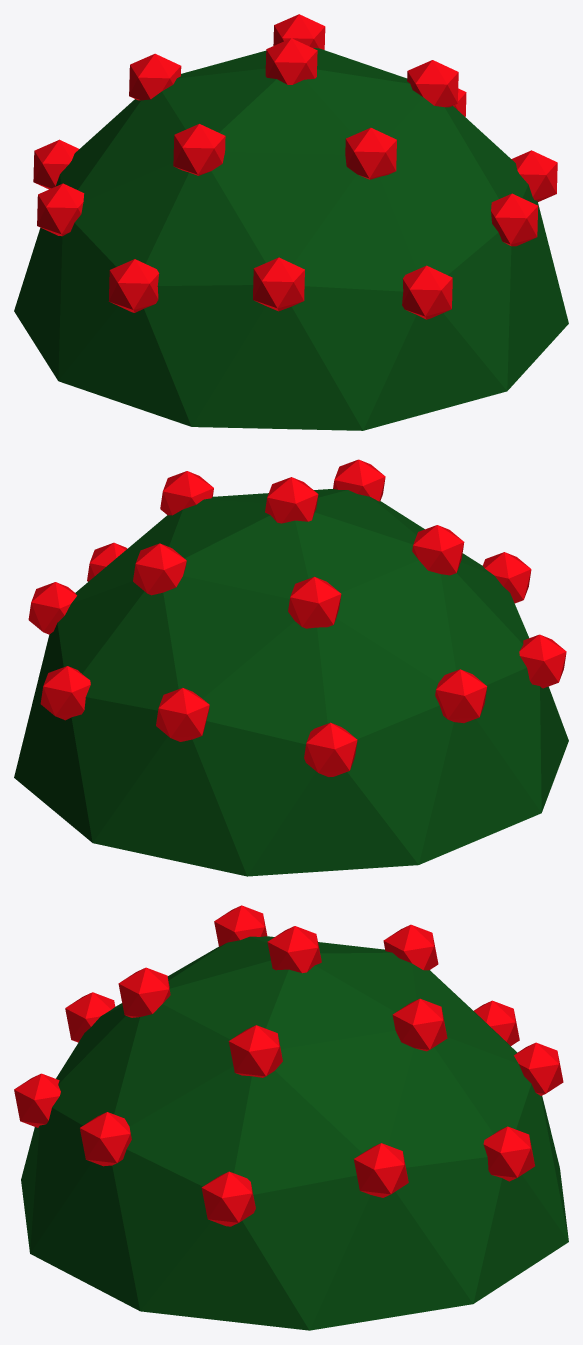
File: BushFruitsRed.obj
3 views of the same model, one above another, from view 1: azimuth 30°, elevation 25°; view 2: azimuth 150°, elevation 25°; view 3: azimuth 270°, elevation 25° (orthographic). The views are drawn at different scales.
Visible parts, largest first — view 1: BushFruitsRed_Icosphere.098; view 2: BushFruitsRed_Icosphere.098; view 3: BushFruitsRed_Icosphere.098.
Part boxes in pixels (box(x1,y1,x2,y2)): BushFruitsRed_Icosphere.098: box(14, 14, 568, 430); BushFruitsRed_Icosphere.098: box(14, 459, 568, 876); BushFruitsRed_Icosphere.098: box(14, 905, 568, 1330).
Size of the model in its own units: 6.05 by 3.36 by 5.92.
